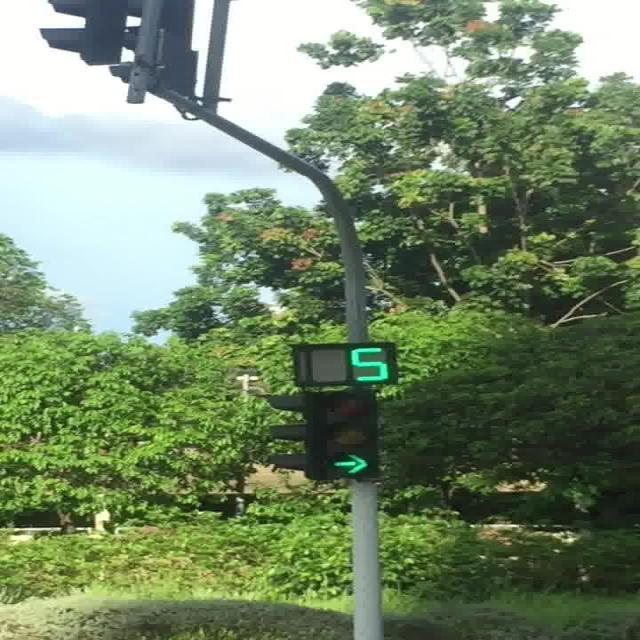green_light: (323, 389, 377, 476)
